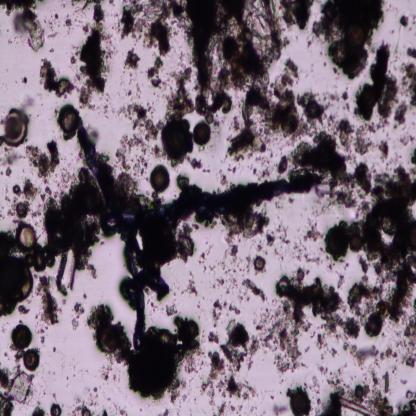Background material: (189, 0, 290, 120), (353, 162, 416, 323), (87, 302, 180, 403), (201, 317, 261, 416), (289, 126, 373, 193), (312, 0, 385, 77), (197, 235, 267, 304), (258, 298, 312, 378), (76, 21, 116, 111), (353, 40, 396, 122), (267, 56, 303, 149), (0, 230, 37, 319), (272, 272, 349, 308), (144, 0, 189, 55), (0, 0, 46, 52), (312, 332, 348, 387), (164, 63, 196, 119), (116, 102, 164, 138), (37, 57, 75, 101), (221, 210, 272, 241), (346, 282, 385, 321), (114, 135, 152, 175), (34, 274, 63, 326), (354, 121, 390, 162), (0, 363, 36, 403), (24, 139, 61, 177), (174, 313, 200, 367), (318, 313, 362, 343), (220, 129, 258, 163), (116, 0, 146, 42), (278, 0, 314, 34), (394, 313, 416, 367), (311, 186, 356, 210), (296, 91, 329, 123), (342, 342, 376, 370), (174, 221, 197, 261), (338, 393, 377, 416), (319, 382, 343, 416), (399, 61, 416, 108), (370, 386, 394, 416), (336, 116, 356, 151), (146, 57, 164, 90), (0, 142, 23, 167), (20, 176, 42, 202), (394, 390, 416, 415), (168, 377, 188, 404), (294, 121, 319, 142), (54, 166, 74, 192), (371, 348, 398, 367), (212, 298, 228, 328), (79, 254, 98, 279), (180, 270, 198, 296), (336, 216, 367, 231), (302, 221, 324, 242), (70, 301, 86, 329), (123, 46, 141, 70), (322, 113, 339, 138), (72, 0, 92, 20), (90, 0, 106, 25), (394, 99, 409, 125), (357, 252, 369, 284), (185, 352, 201, 374), (292, 240, 307, 261), (196, 213, 215, 229), (308, 209, 328, 224), (0, 395, 14, 416), (150, 141, 164, 162), (276, 223, 290, 244), (174, 173, 190, 191), (380, 370, 392, 394), (99, 363, 113, 383), (304, 252, 324, 266), (100, 99, 113, 120), (206, 329, 221, 347), (44, 12, 59, 30), (33, 400, 49, 416), (69, 400, 85, 416), (399, 133, 416, 148), (186, 156, 204, 170), (258, 128, 268, 153), (216, 168, 230, 185), (344, 380, 355, 401), (229, 301, 243, 317), (20, 97, 36, 111), (309, 376, 321, 394), (85, 393, 100, 407), (278, 155, 289, 174), (273, 403, 289, 416), (34, 322, 49, 335), (114, 403, 129, 416), (254, 152, 270, 164), (265, 229, 275, 248), (390, 152, 403, 166), (14, 348, 26, 363), (63, 13, 72, 32), (274, 245, 284, 262), (370, 370, 380, 386), (394, 38, 399, 70), (326, 255, 336, 271), (166, 303, 178, 316), (328, 91, 340, 104), (258, 168, 271, 180), (63, 132, 77, 143), (232, 116, 241, 131), (68, 45, 80, 56), (18, 306, 31, 316), (399, 15, 409, 27), (11, 196, 19, 211), (30, 208, 42, 218), (406, 46, 416, 58), (135, 82, 142, 99), (82, 21, 91, 33), (385, 1, 394, 13), (158, 408, 171, 416), (410, 148, 416, 165), (274, 198, 282, 210), (46, 31, 58, 39), (201, 327, 206, 345), (341, 91, 350, 101), (362, 373, 370, 384), (6, 209, 16, 217), (192, 221, 200, 231), (44, 186, 52, 195), (20, 75, 28, 84), (287, 196, 295, 205), (78, 148, 84, 160), (51, 392, 58, 402), (10, 342, 17, 352), (75, 394, 82, 404), (333, 66, 340, 76), (286, 387, 292, 398), (6, 165, 12, 176), (226, 166, 237, 172), (342, 103, 350, 111), (391, 365, 397, 375), (25, 201, 31, 211), (12, 218, 22, 224), (128, 71, 132, 85), (102, 408, 109, 416), (400, 378, 408, 385), (70, 54, 76, 63), (306, 39, 312, 48), (297, 267, 306, 273), (364, 387, 370, 396), (40, 335, 45, 345), (202, 169, 212, 174), (60, 0, 66, 8), (53, 190, 59, 198), (388, 321, 396, 327), (320, 246, 326, 254), (301, 362, 309, 368), (40, 194, 46, 202), (315, 407, 320, 416), (413, 298, 416, 313), (303, 382, 307, 393), (316, 398, 322, 405), (322, 60, 328, 67), (5, 195, 11, 202), (0, 213, 6, 220), (4, 186, 9, 194), (402, 123, 407, 131), (54, 108, 59, 116), (344, 262, 349, 270), (332, 256, 340, 261), (252, 167, 257, 175), (147, 106, 153, 112), (42, 391, 48, 397), (2, 327, 8, 333), (109, 0, 115, 6), (380, 332, 386, 338), (52, 346, 57, 353), (127, 90, 132, 97), (48, 48, 55, 53), (79, 370, 83, 378), (83, 293, 87, 301), (8, 37, 12, 45), (279, 263, 283, 271), (93, 386, 98, 392), (26, 299, 32, 304), (146, 288, 150, 295), (279, 379, 284, 384), (196, 304, 201, 309), (340, 274, 344, 280), (61, 362, 64, 370), (4, 351, 8, 357), (200, 360, 204, 366), (113, 374, 116, 382), (62, 298, 66, 304), (85, 368, 89, 374), (339, 258, 345, 262), (100, 240, 104, 246), (118, 375, 121, 382), (202, 352, 206, 357), (47, 370, 51, 375), (390, 29, 394, 34), (150, 302, 154, 307), (306, 270, 310, 275), (44, 179, 48, 184), (0, 170, 4, 175), (34, 222, 38, 227), (412, 121, 416, 126), (53, 370, 56, 376), (320, 50, 323, 56), (116, 12, 119, 18), (265, 250, 268, 256), (172, 292, 176, 296), (38, 204, 42, 208), (412, 21, 416, 25), (408, 27, 412, 31), (14, 36, 18, 40), (270, 396, 274, 400), (393, 124, 397, 128), (270, 153, 273, 158), (173, 194, 178, 197), (413, 15, 416, 20), (153, 91, 156, 96), (194, 397, 196, 404), (336, 270, 338, 276), (107, 398, 111, 401), (39, 219, 42, 223), (6, 29, 10, 32), (350, 377, 354, 380), (336, 216, 339, 220), (152, 308, 155, 312), (403, 44, 406, 48), (74, 365, 76, 370), (66, 376, 68, 381), (311, 407, 314, 410), (7, 358, 10, 361), (312, 396, 315, 399), (297, 229, 300, 232), (236, 410, 238, 414), (119, 369, 121, 373), (66, 383, 68, 387), (88, 388, 90, 391), (73, 374, 75, 377), (305, 207, 307, 210), (2, 206, 4, 209), (279, 392, 282, 394), (0, 210, 2, 212), (312, 402, 314, 404), (354, 376, 356, 378), (199, 302, 200, 304)
Cotton: (79, 122, 318, 332)
Diatom: (161, 118, 191, 158), (55, 249, 78, 297), (1, 110, 28, 146), (12, 266, 32, 303), (58, 104, 82, 134), (148, 163, 172, 193), (15, 221, 38, 251), (328, 228, 349, 256), (345, 22, 366, 50), (12, 322, 31, 350), (290, 391, 310, 415), (192, 122, 212, 144), (33, 243, 47, 273), (23, 349, 41, 371), (366, 313, 384, 335), (348, 232, 364, 252), (185, 318, 199, 340), (251, 256, 266, 272), (16, 202, 27, 218), (49, 403, 62, 416), (44, 255, 56, 267), (354, 385, 364, 398), (376, 302, 386, 314), (205, 114, 214, 124), (13, 184, 20, 194), (83, 408, 91, 416), (298, 271, 304, 280), (338, 279, 342, 289)
